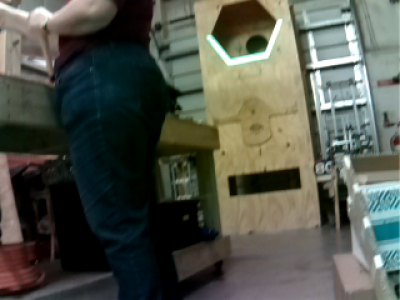target: (205, 19, 284, 66)
